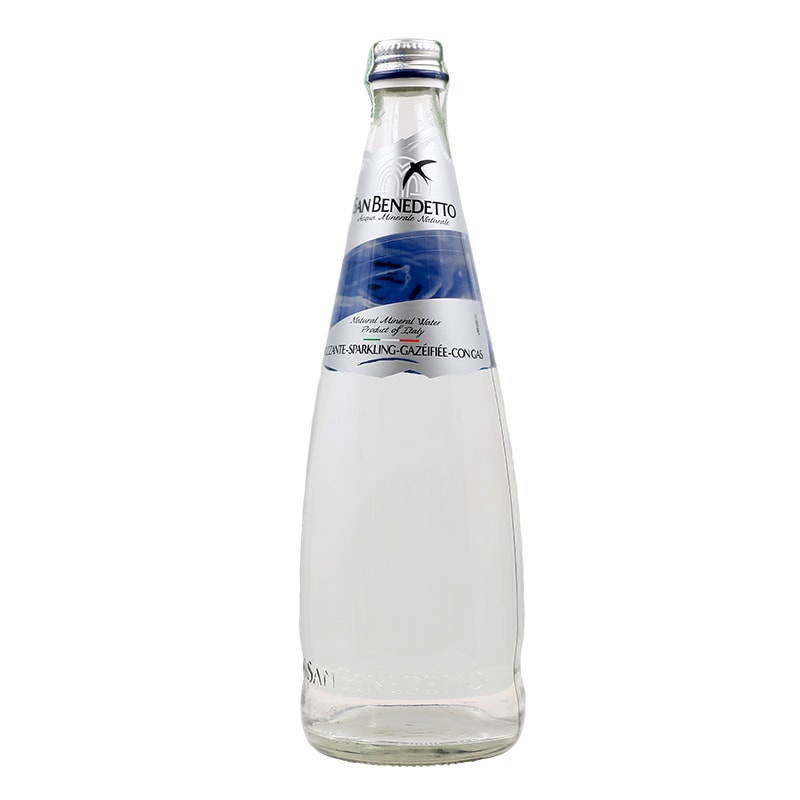glass_bottle: (293, 33, 532, 775)
